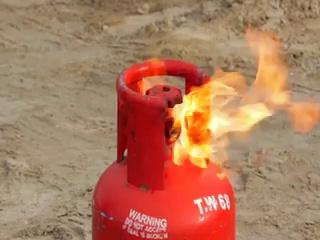Fire: (146, 30, 300, 204)
